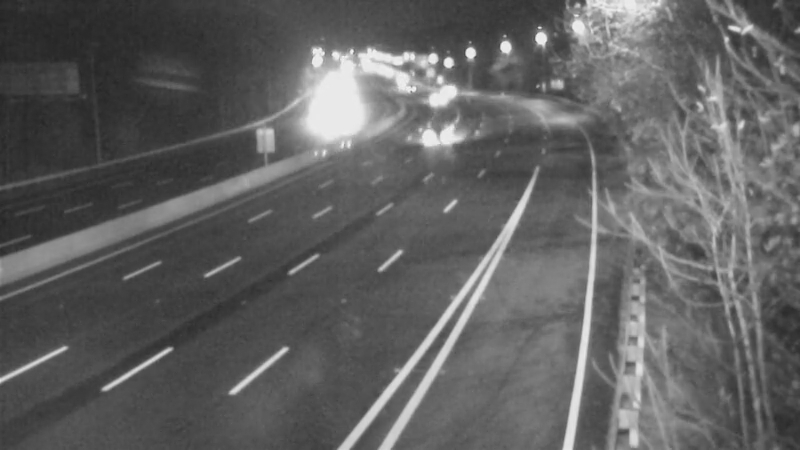vehicle: (389, 64, 439, 114), (422, 68, 472, 118), (409, 70, 459, 120), (416, 105, 466, 155), (293, 89, 343, 139)
